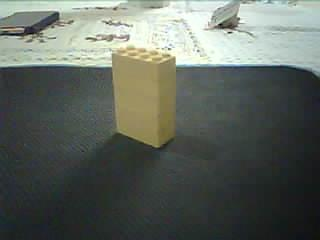lego: (110, 42, 177, 148)
